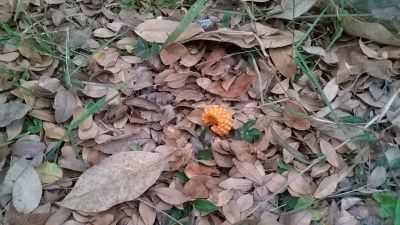eggs: (201, 102, 235, 137)
